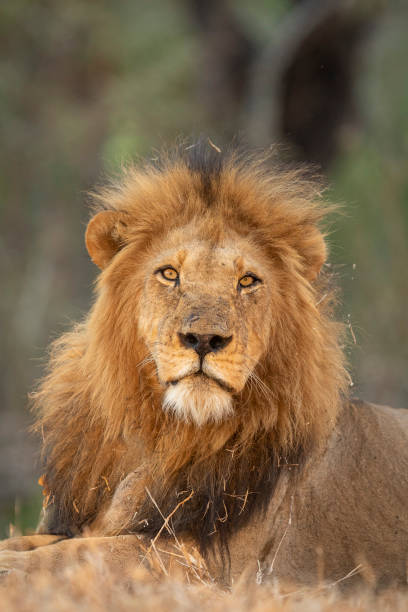lion: (22, 133, 390, 577)
